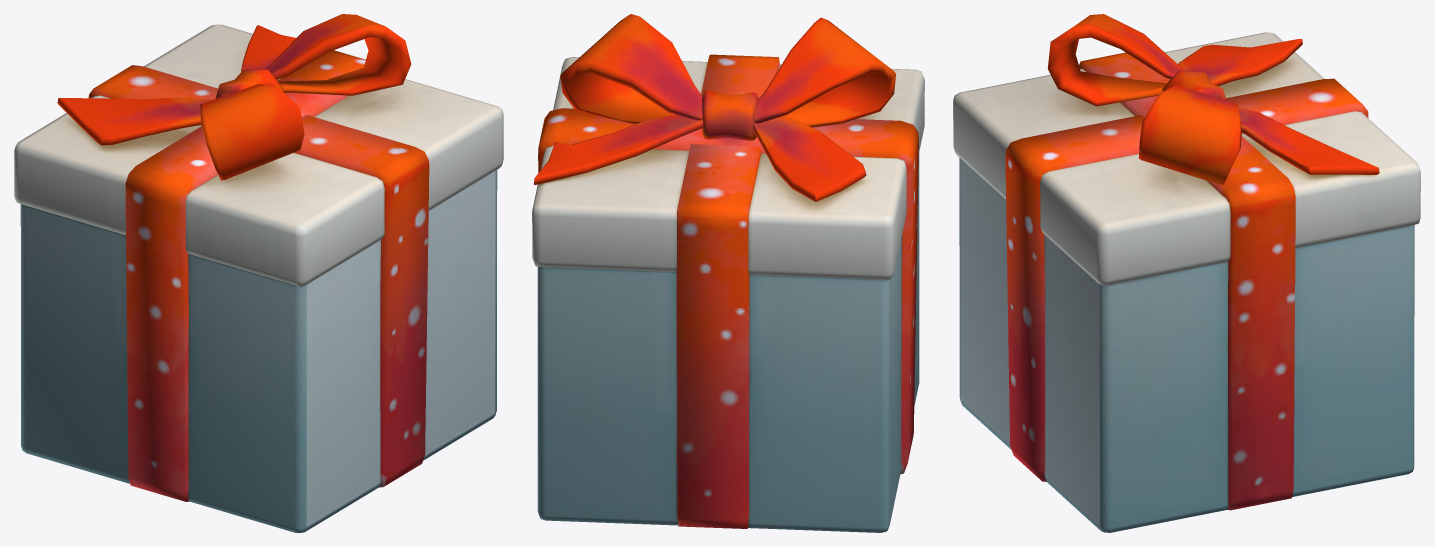
Rendered from pref_sm_prop_gift01_lv3.fbx.
3 renders of one model, left to right at view 1: azimuth 30°, elevation 25°; view 2: azimuth 150°, elevation 25°; view 3: azimuth 270°, elevation 25°, orthographic. The views are drawn at different scales.
Visible parts, largest first — view 1: pref_sm_prop_gift01_lv3; view 2: pref_sm_prop_gift01_lv3; view 3: pref_sm_prop_gift01_lv3.
Part boxes in pixels (box(x1,y1,x2,y2)): pref_sm_prop_gift01_lv3: box(14, 14, 503, 532); pref_sm_prop_gift01_lv3: box(532, 14, 924, 532); pref_sm_prop_gift01_lv3: box(953, 14, 1420, 532).
Size of the model in its own units: 1.06 by 0.9979 by 1.06.
1 material, 1 textured.
